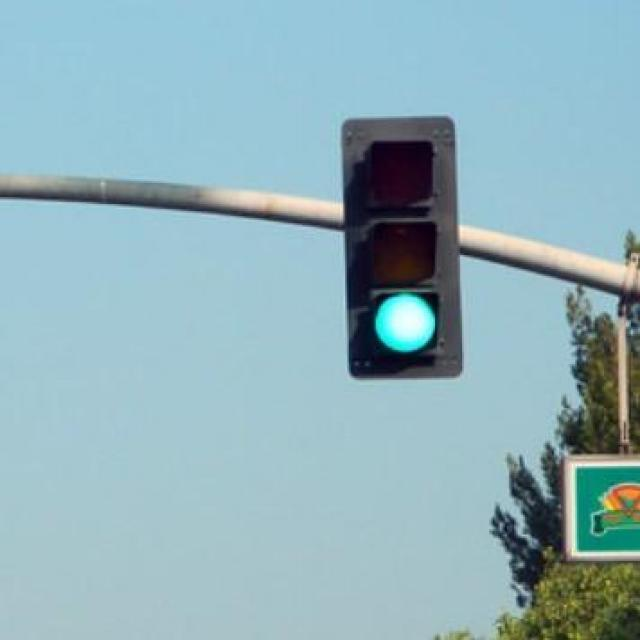green_light: (354, 136, 454, 370)
